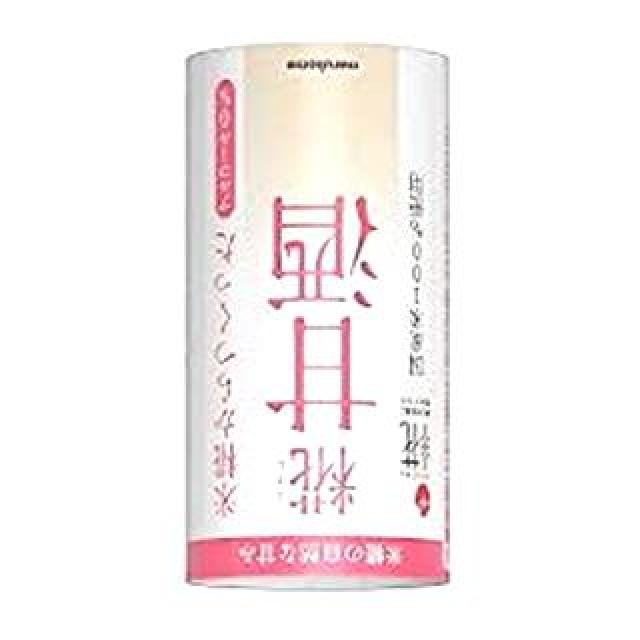Can: (174, 29, 456, 593)
